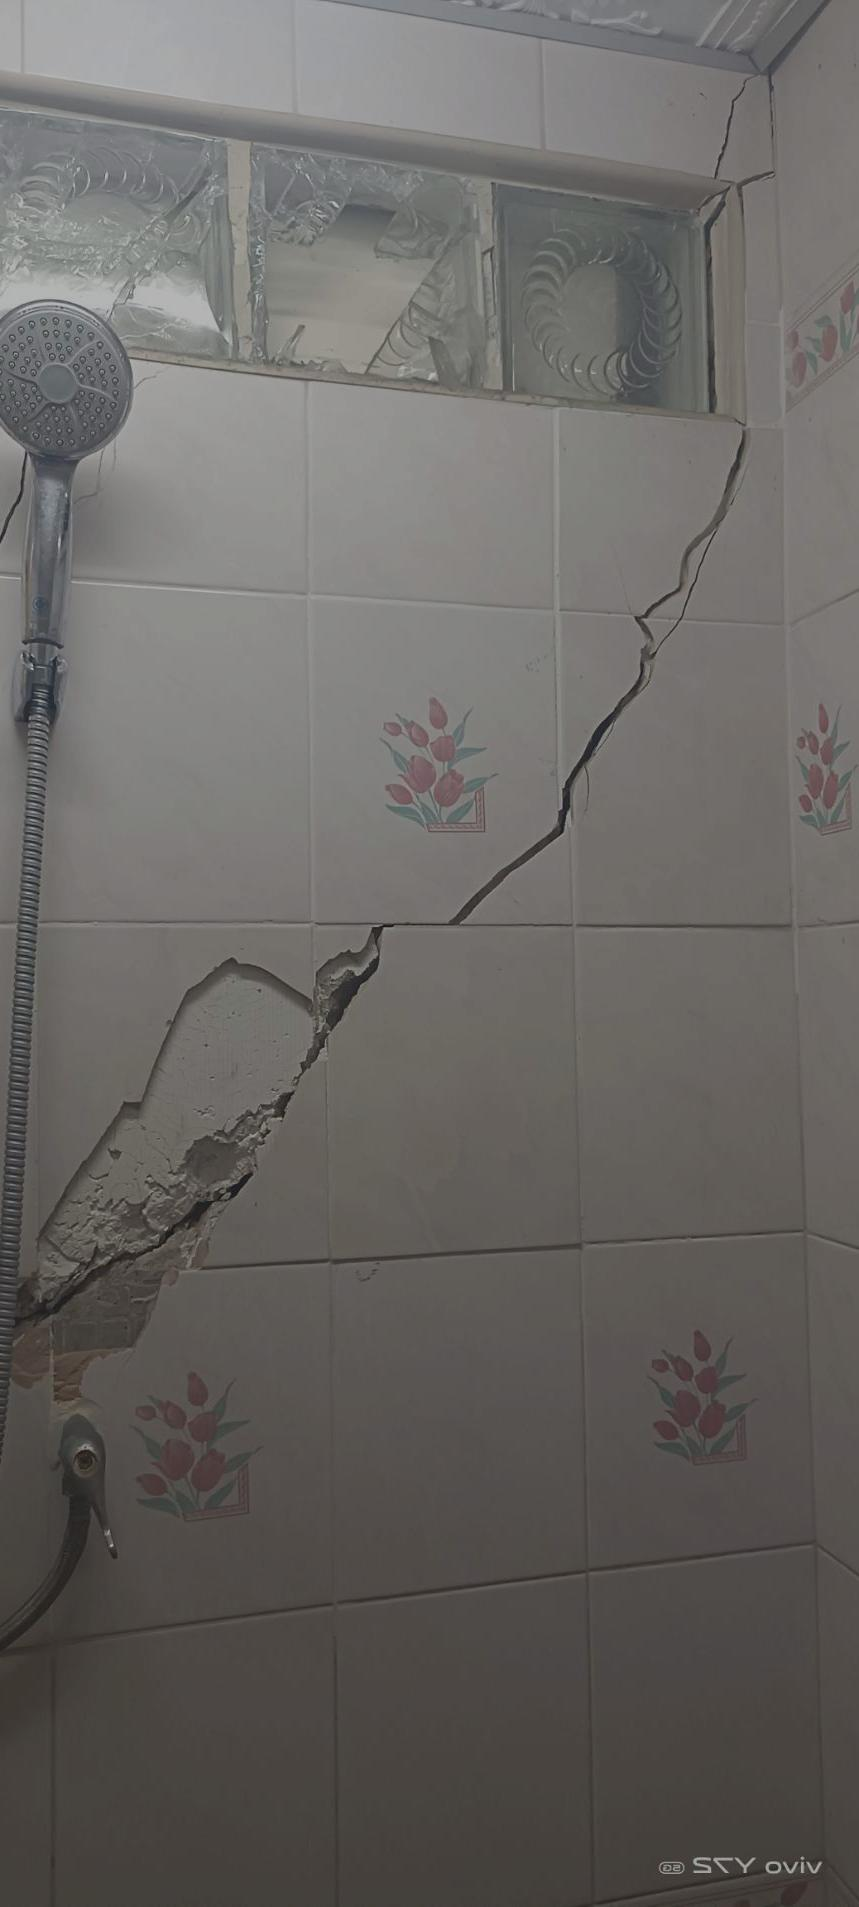High: (19, 39, 825, 1440)
